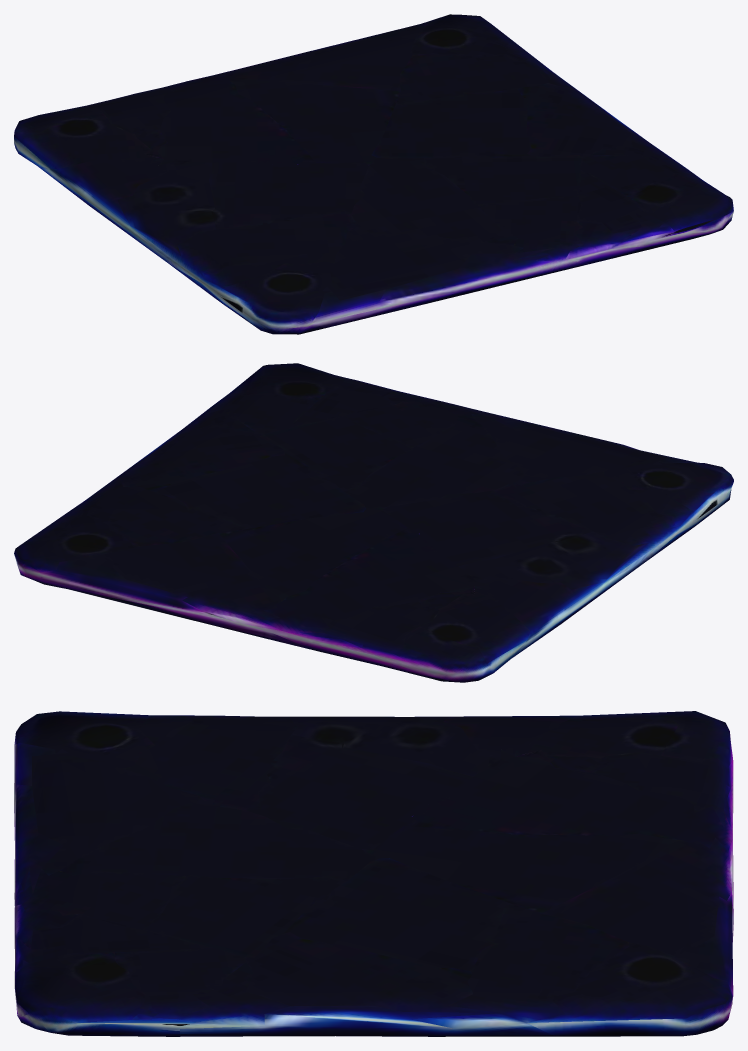
Rendered from au_furn_rug_cyber.glb.
The picture shows the model from 3 angles, top to bottom: view 1: azimuth 30°, elevation 25°; view 2: azimuth 150°, elevation 25°; view 3: azimuth 270°, elevation 25°; orthographic projection. The views are drawn at different scales.
Visible parts, largest first — view 1: tripo_node_af3f53f3-9144-49d3-b393-b08e15180ad1; view 2: tripo_node_af3f53f3-9144-49d3-b393-b08e15180ad1; view 3: tripo_node_af3f53f3-9144-49d3-b393-b08e15180ad1.
Part boxes in pixels (x1,y1,x2,y2): tripo_node_af3f53f3-9144-49d3-b393-b08e15180ad1: (14,14,733,334); tripo_node_af3f53f3-9144-49d3-b393-b08e15180ad1: (14,363,733,682); tripo_node_af3f53f3-9144-49d3-b393-b08e15180ad1: (14,711,733,1036).
Bounding box in the file's own units: 0.9809 × 0.0538 × 0.9814.
1 material, 1 textured.
